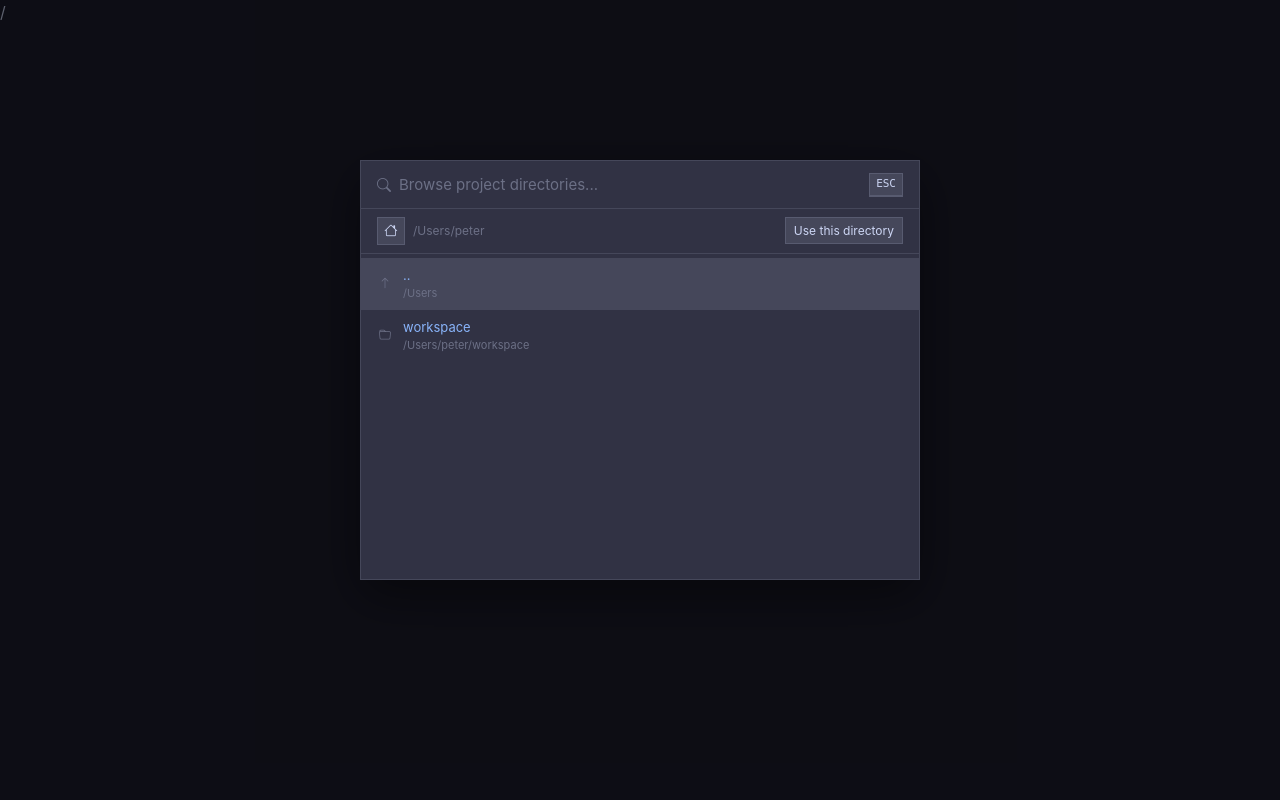
Scenario: CommandPalette project mode › browses local directories from project mode
The width and height of the screenshot is (1280, 800).
Expected: the button "Use this directory" is shown, [785,217,903,244]
Click the text "workspace". click: (437, 326)
box: [403,318,471,334]
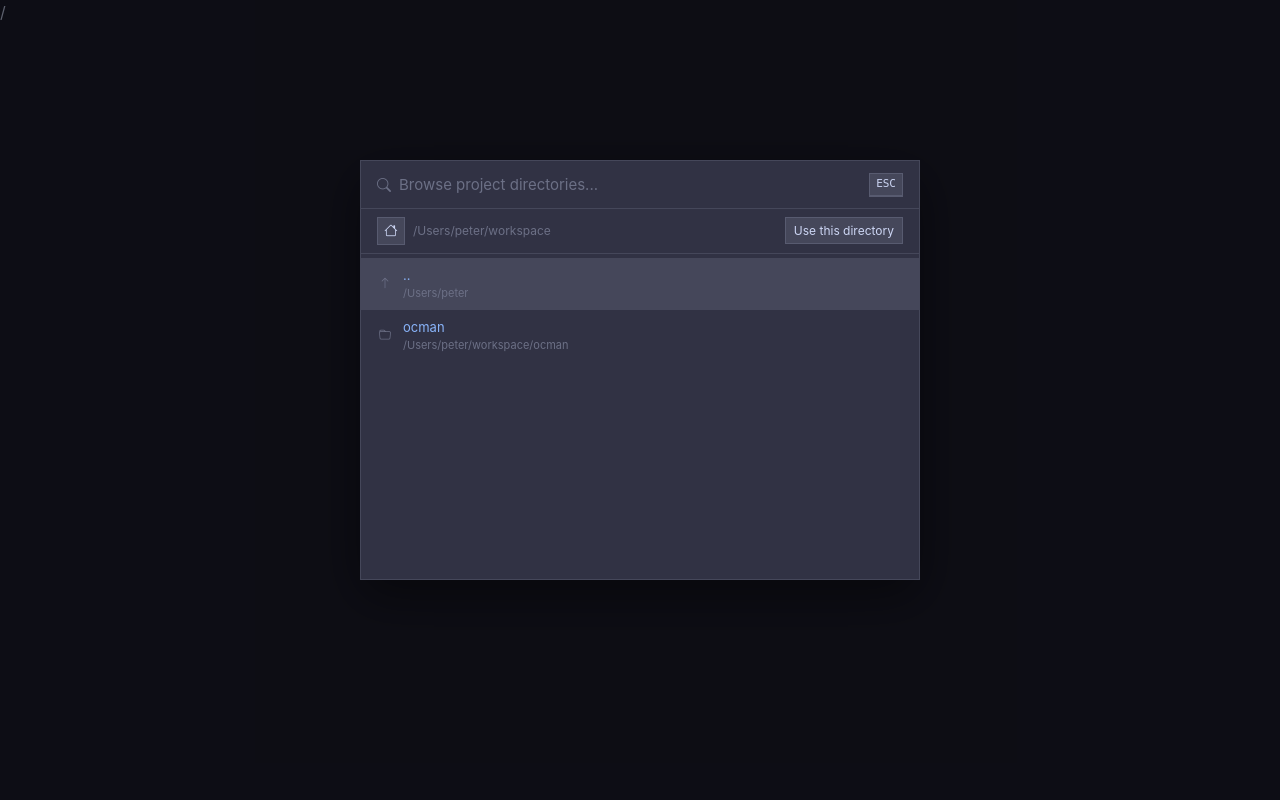
Result: the text "ocman" is shown at [403,318,445,334]
Result: the text "/Users/peter/workspace" is shown at [413,222,551,238]
